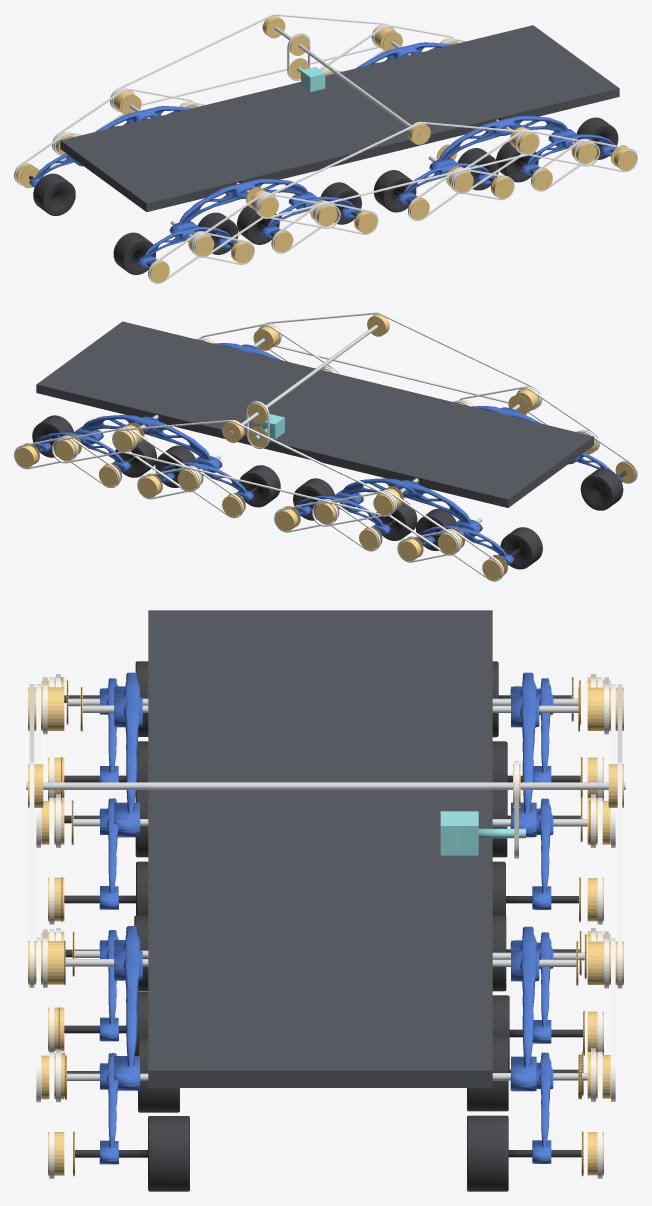
Rendered from rover_assembly_m.glb.
3 renders of one model, top to bottom at view 1: azimuth 30°, elevation 25°; view 2: azimuth 150°, elevation 25°; view 3: azimuth 270°, elevation 25°, orthographic. The views are drawn at different scales.
Visible parts, largest first — view 1: chassis_01, bogie_p_n1, bogie_p_n0, belt_l_n, belt_l_p, wheel_02, wheel_01, wheel_09, bogie_s_n0, bogie_s_n3, wheel_05, bogie_s_n2 (+23 smaller); view 2: chassis_01, bogie_p_p0, bogie_p_p1, belt_l_p, belt_l_n, wheel_01, wheel_02, wheel_10, wheel_06, bogie_s_p3, wheel_14, bogie_s_p0 (+19 smaller); view 3: chassis_01, shaft_centre, wheel_16, wheel_15, bogie_p_p1, bogie_p_n1, bogie_p_n0, bogie_p_p0, box_01, wheel_14, belt_l_p, belt_l_n (+24 smaller).
Part boxes in pixels (x1,y1,x2,y2): chassis_01: (60, 25, 619, 211); bogie_p_n1: (429, 115, 577, 169); bogie_p_n0: (169, 178, 317, 233); belt_l_n: (257, 122, 539, 218); belt_l_p: (110, 14, 392, 109); wheel_02: (29, 173, 75, 215); wheel_01: (113, 232, 155, 274); wheel_09: (373, 170, 416, 212); bogie_s_n0: (137, 226, 237, 268); bogie_s_n3: (520, 134, 616, 175); wheel_05: (237, 206, 279, 244); bogie_s_n2: (397, 163, 496, 204); chassis_01: (36, 321, 594, 507); bogie_p_p0: (334, 478, 482, 532); bogie_p_p1: (73, 415, 222, 469); belt_l_p: (112, 420, 395, 516); belt_l_n: (261, 312, 542, 407); wheel_01: (580, 468, 626, 510); wheel_02: (500, 527, 542, 569); wheel_10: (239, 465, 280, 507); wheel_06: (375, 500, 417, 540); bogie_s_p3: (33, 432, 130, 472); wheel_14: (115, 438, 156, 477); bogie_s_p0: (417, 526, 514, 565); chassis_01: (148, 610, 492, 1087); shaft_centre: (26, 782, 625, 789); wheel_16: (467, 1115, 581, 1191); wheel_15: (75, 1116, 189, 1191); bogie_p_p1: (510, 926, 539, 1091); bogie_p_n1: (114, 926, 142, 1090); bogie_p_n0: (114, 672, 142, 837); bogie_p_p0: (510, 672, 539, 837); box_01: (440, 811, 525, 855); wheel_14: (467, 1035, 578, 1111); belt_l_p: (617, 684, 622, 988); belt_l_n: (29, 684, 34, 987).
Bounding box in the file's own units: 1.21 × 0.2565 × 0.632.
